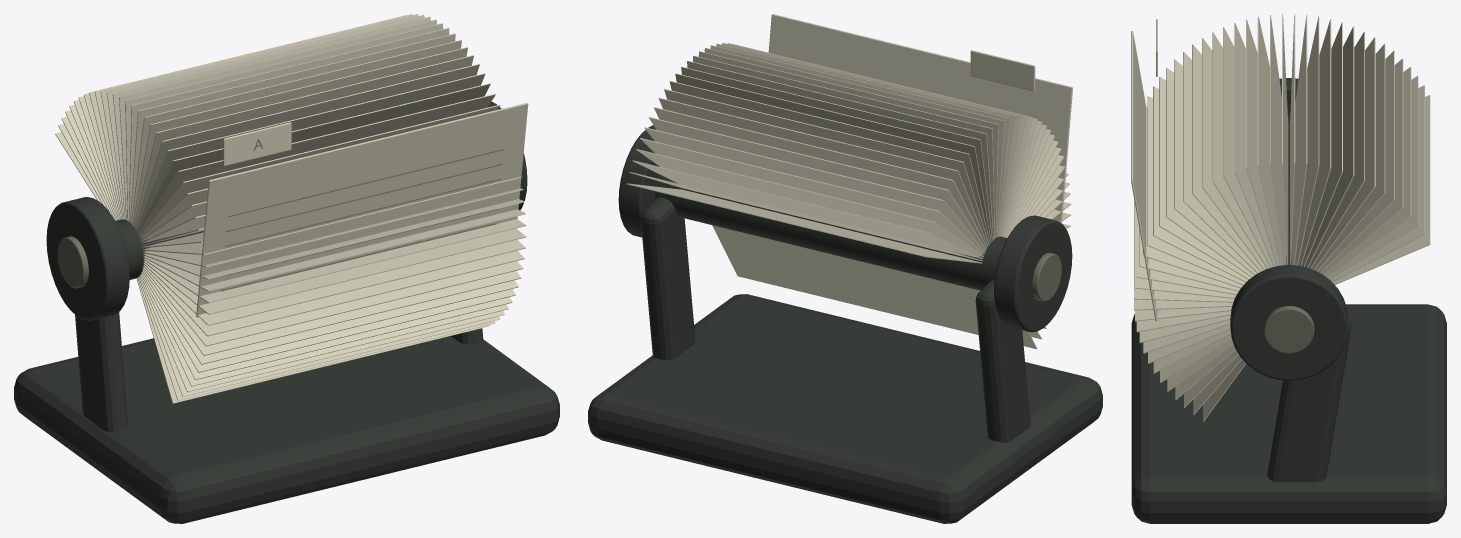
Rendered from rolodex.glb.
3 views of the same model, side by side, from view 1: azimuth 30°, elevation 25°; view 2: azimuth 150°, elevation 25°; view 3: azimuth 270°, elevation 25° (orthographic). The views are drawn at different scales.
Parts seen in each view (by area): view 1: Weighted base; view 2: Weighted base; view 3: Weighted base.
Boxes of the visible parts, x1=… form: Weighted base: x1=14, y1=14, x2=559, y2=523; Weighted base: x1=588, y1=14, x2=1102, y2=523; Weighted base: x1=1131, y1=14, x2=1446, y2=523.
Size of the model in its own units: 0.2296 by 0.187 by 0.1503.
